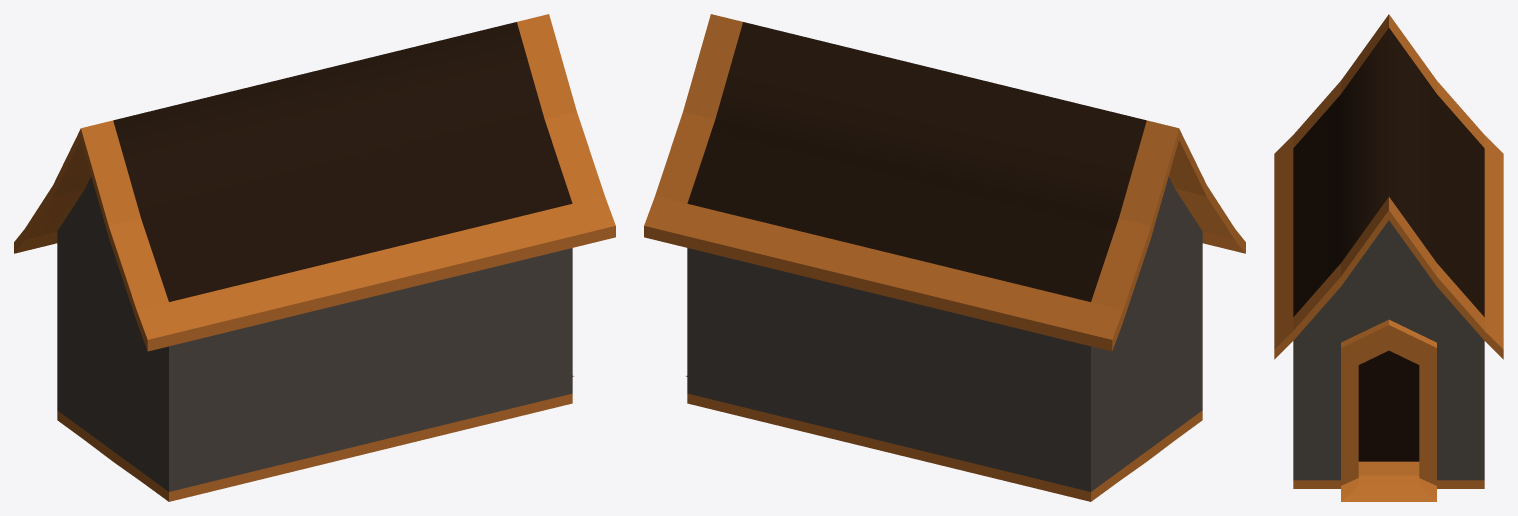
Rendered from HOUSE_01.fbx.
3 views of the same model, side by side, from view 1: azimuth 30°, elevation 25°; view 2: azimuth 150°, elevation 25°; view 3: azimuth 270°, elevation 25° (orthographic). The views are drawn at different scales.
Visible parts, largest first — view 1: HOUSE; view 2: HOUSE; view 3: HOUSE.
Part boxes in pixels (bbox=[...]): HOUSE: bbox=[14, 14, 615, 501]; HOUSE: bbox=[644, 14, 1245, 501]; HOUSE: bbox=[1274, 14, 1503, 501].
Size of the model in its own units: 17.78 by 12.39 by 8.78.
